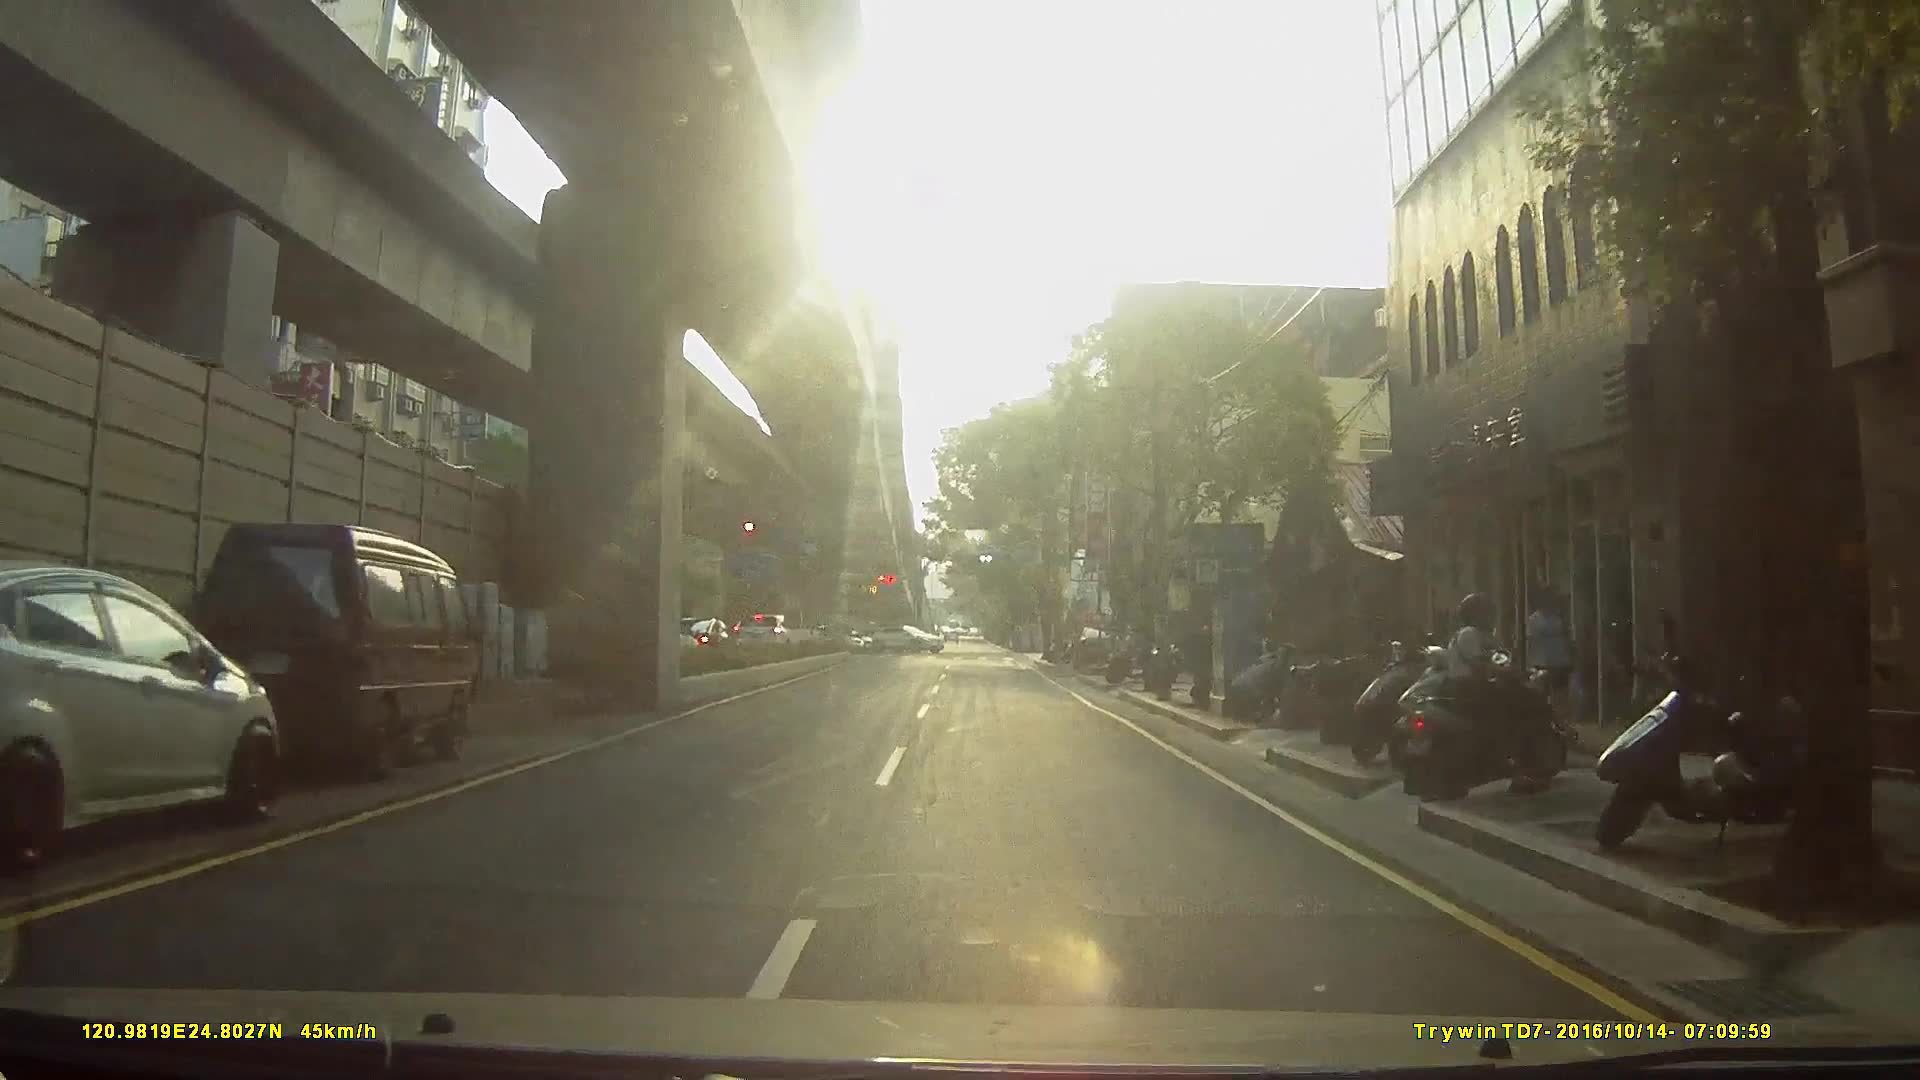pedestrian: (1523, 588, 1586, 749)
rider: (1403, 598, 1588, 816)
vehicle: (176, 514, 522, 786), (1, 561, 303, 850), (729, 612, 807, 658), (782, 619, 876, 657), (1066, 622, 1118, 670), (869, 626, 947, 656)
